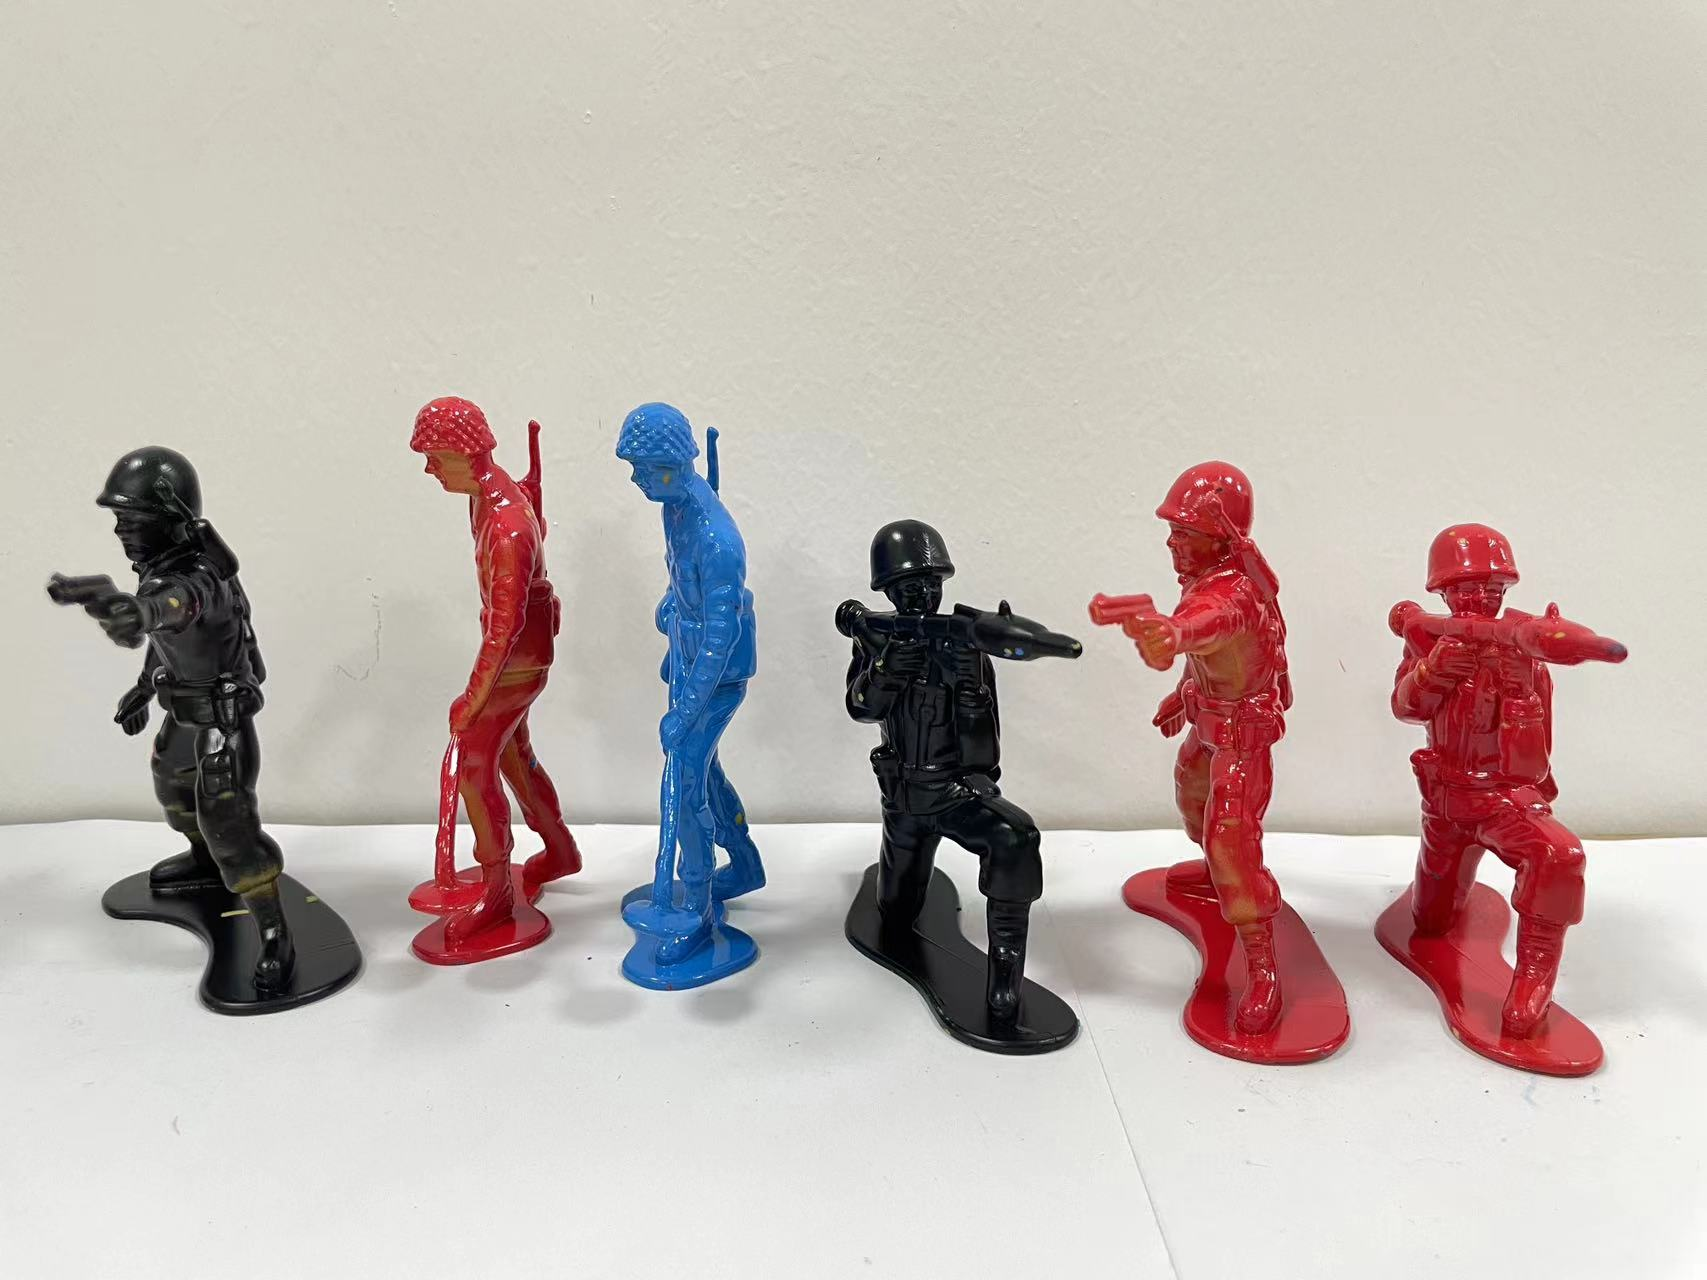black: (4, 401, 367, 1041), (796, 514, 1089, 1065)
blue: (598, 372, 805, 1068)
red: (1344, 502, 1671, 1074), (1091, 454, 1368, 1089), (370, 364, 608, 1002)
